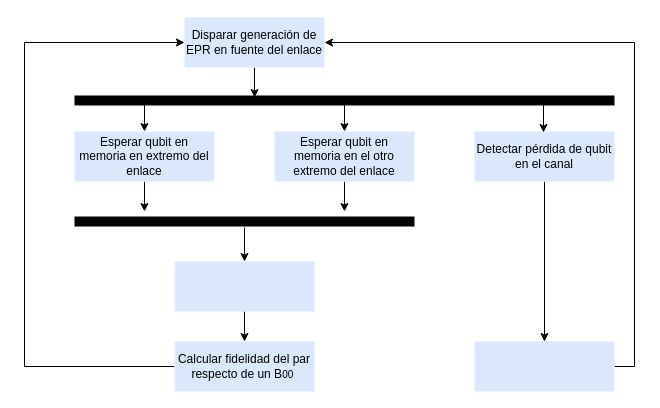
Image size: 660x408. Some labels were removed from this diagram. The shapes that lost their labels are listed below. From the top down, each one's centre as x and y in pixels, then its label:
At (x=244, y=286): "Leer qubit de posiciones de memoria".
At (x=544, y=366): "Registrar una fidelidad de 0".
